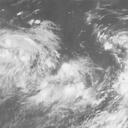cyclone: (40, 52, 97, 108)
